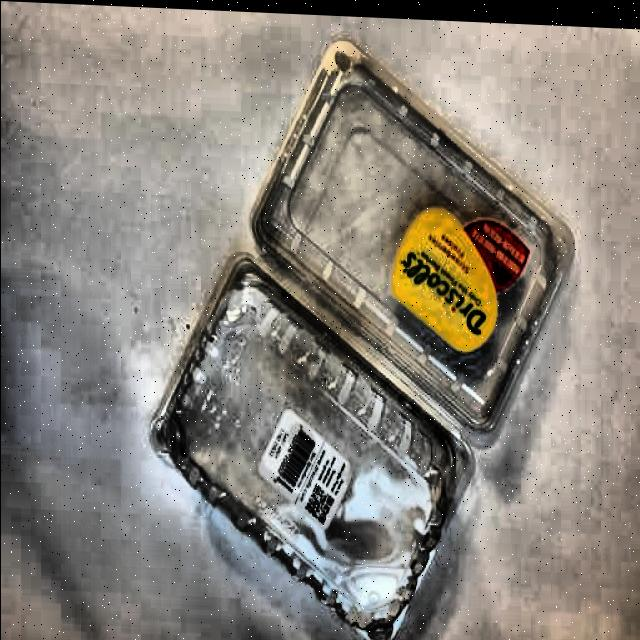plastic: (141, 26, 576, 640)
